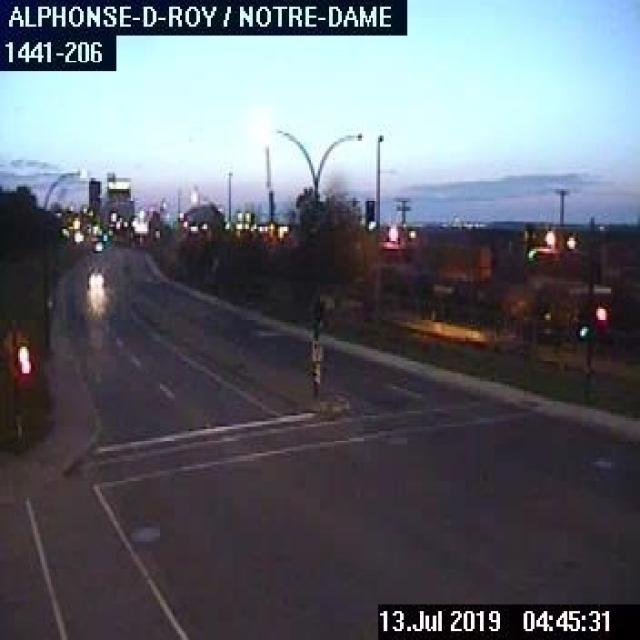vehicle: (84, 262, 107, 291)
